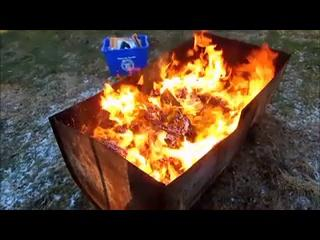fire: (96, 31, 272, 185)
